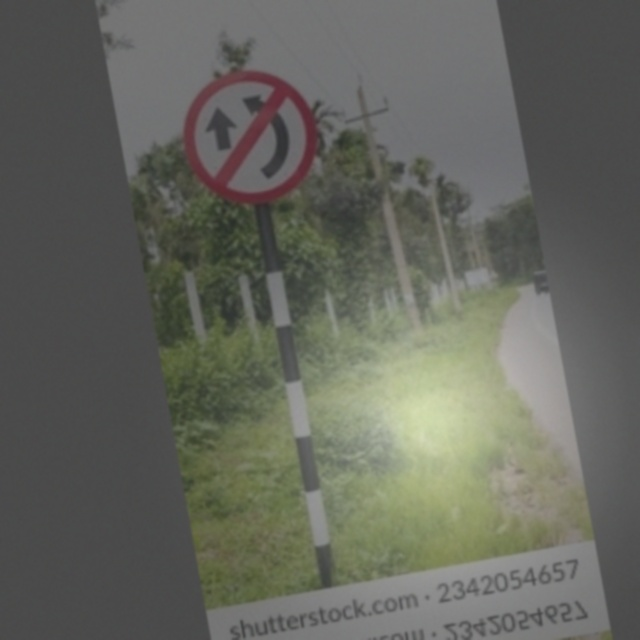Overtaking_Prohibited: (178, 58, 327, 213)
